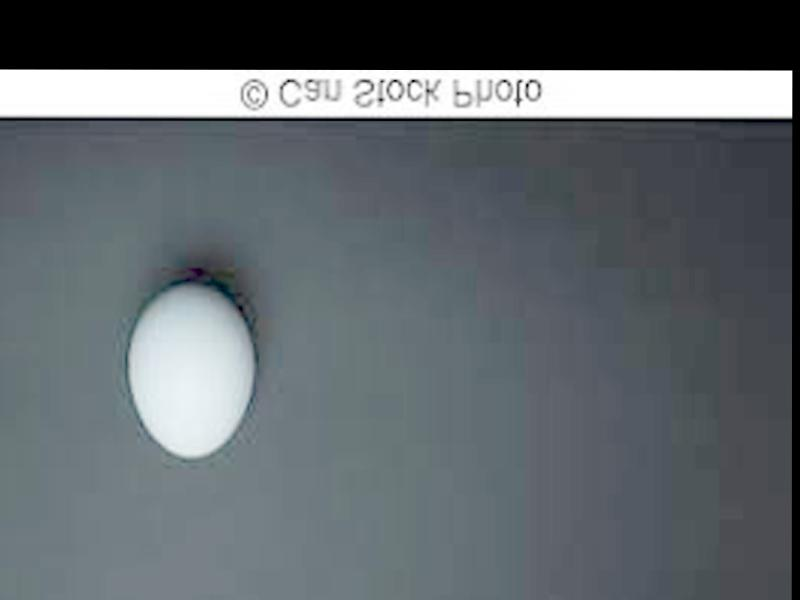Eggs: (125, 285, 253, 458)
